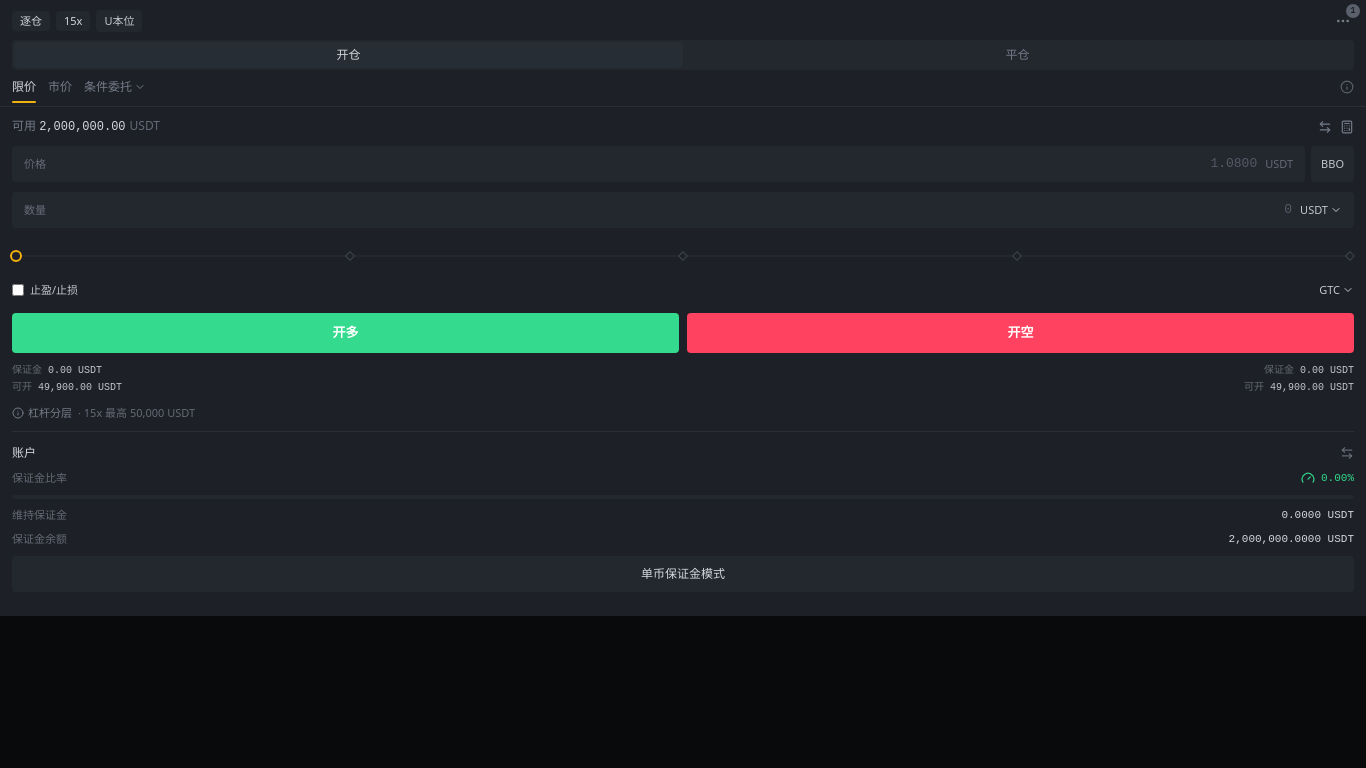
Scenario: 【回归】仓位比例按钮向下取整，100% 不会自己把单子推过分层上限 › KAITOUSDT 限价 1.09、15x、币数档（1 位小数）：100% = 45,871.5，不是四舍五入出来的 45,871.6
The image size is (1366, 768).
Click the button with test id "unit-preference-trigger" at [1321, 210], box [1300, 202, 1342, 218]
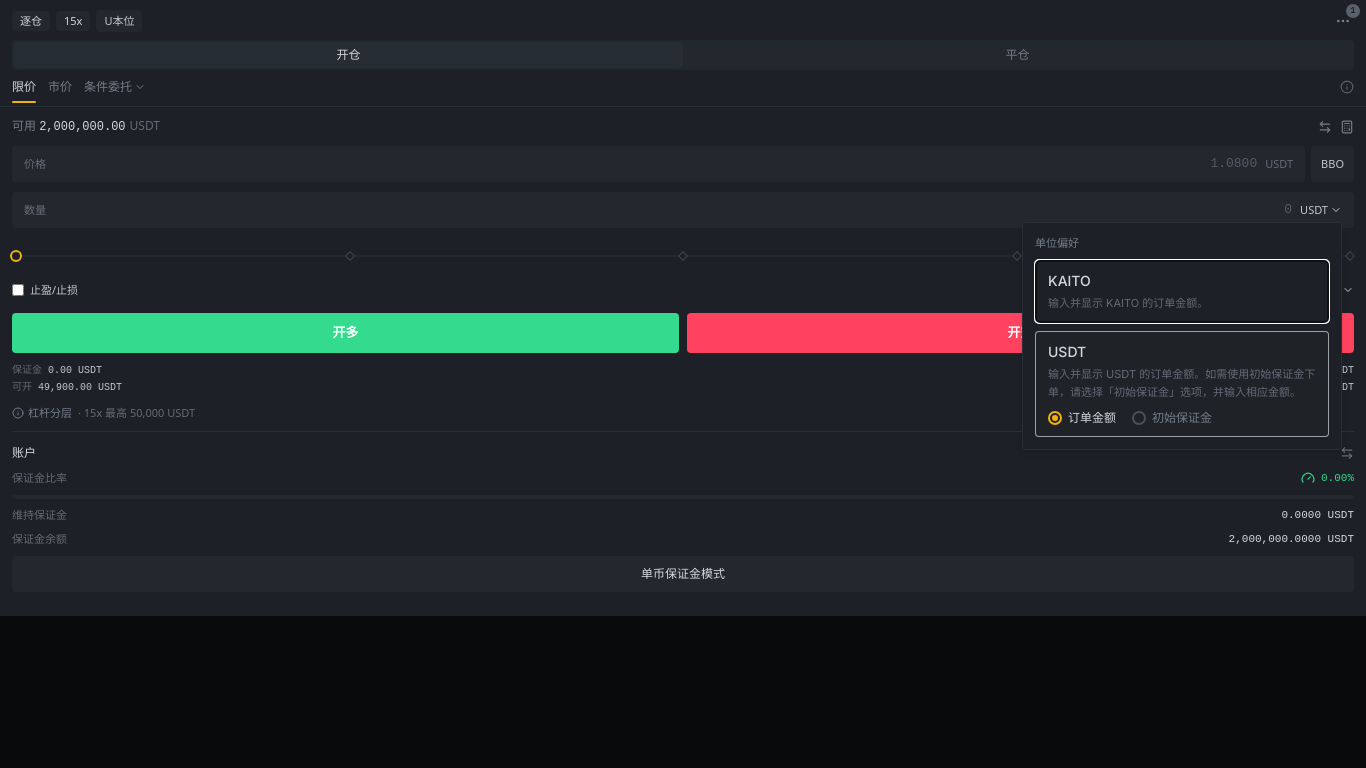
Click the button "KAITO 输入并显示 KAITO 的订单金额。" at [1069, 280], box [1035, 260, 1329, 323]
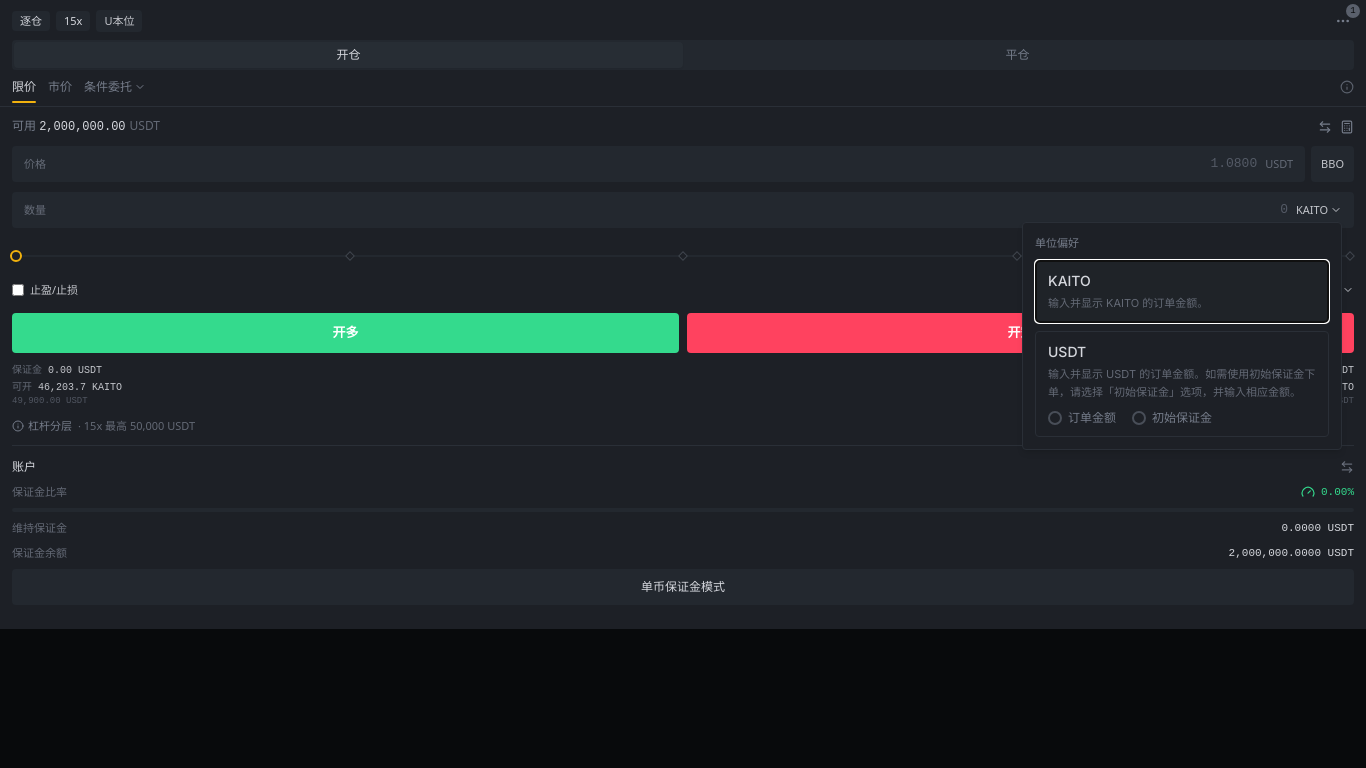
Type "1.09" into the field with test id "order-limit-price" at [656, 164], box [54, 154, 1257, 174]
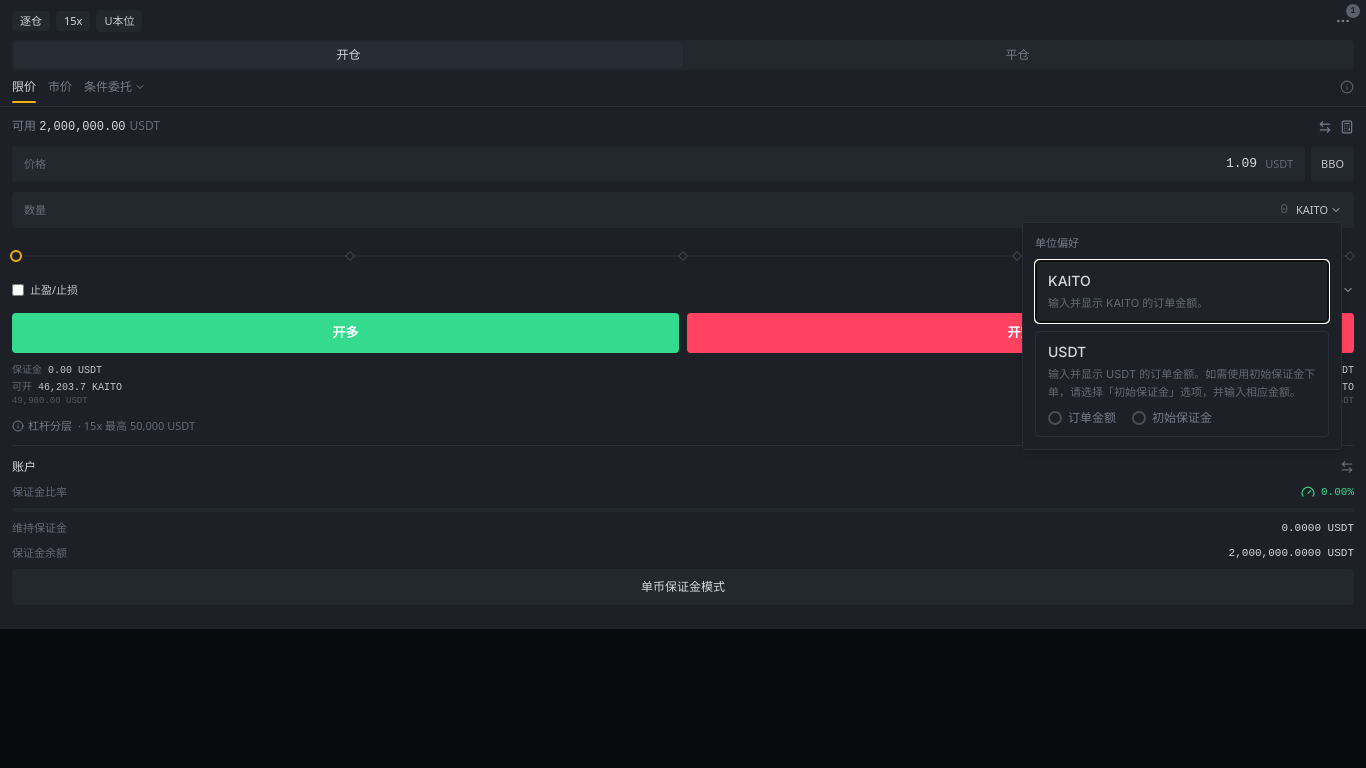
Click the button named "100%" at [1350, 256], box [1345, 251, 1355, 261]
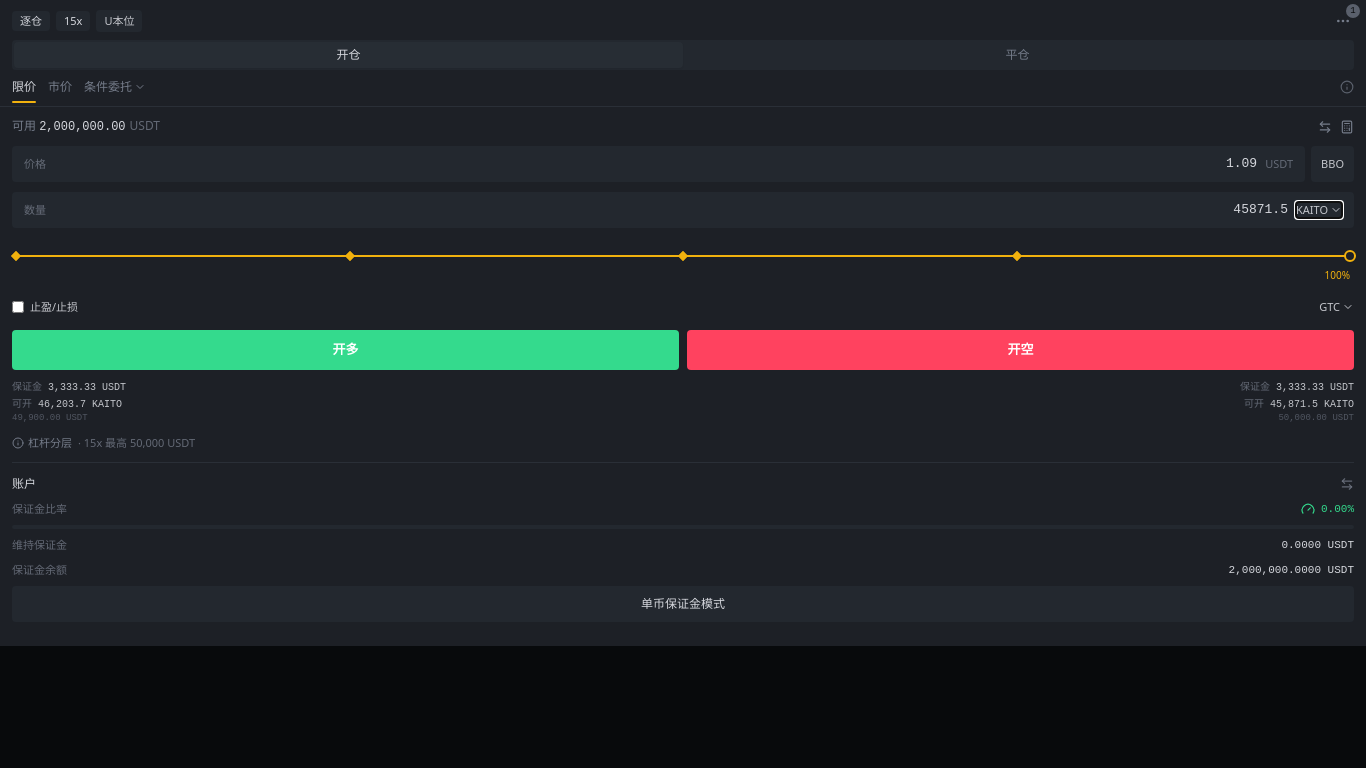
Expected: the button "开多" is enabled, [12, 330, 679, 370]
Expected: the field with test id "order-qty-input" holds "45871.5", [54, 200, 1288, 220]
